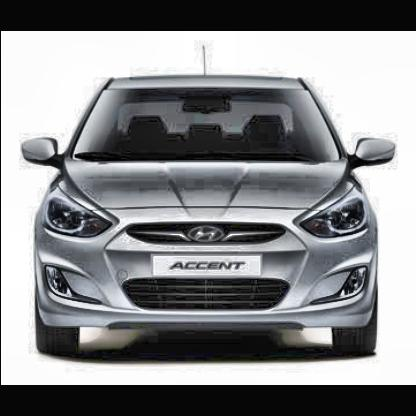Hyundai Accent Sedan 2012: (22, 47, 397, 358)
